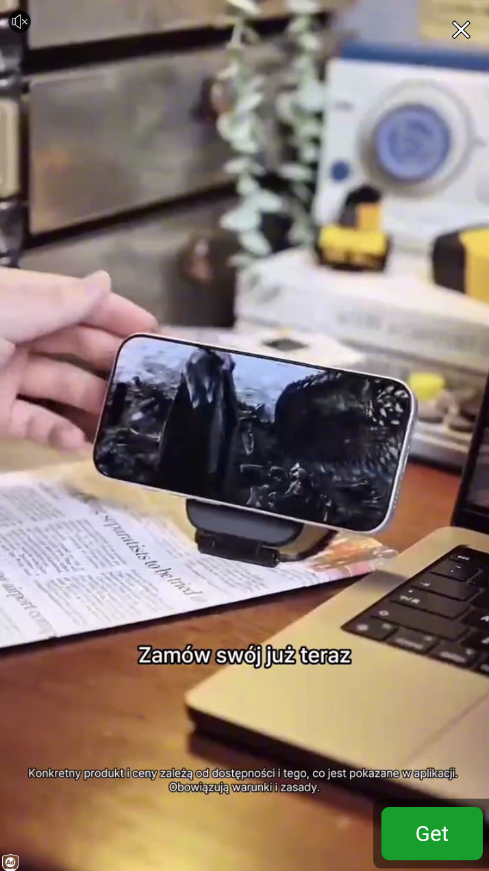close_button: (446, 14, 478, 48)
